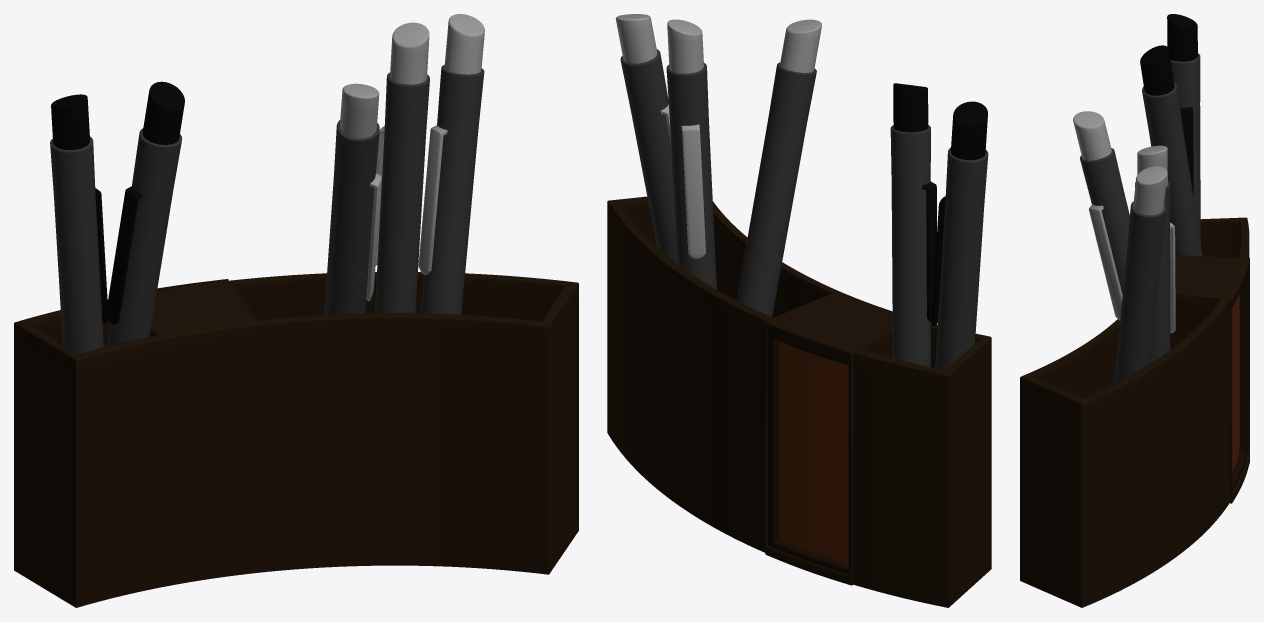
File: Canetas.FBX
3 views of the same model, side by side, from view 1: azimuth 30°, elevation 25°; view 2: azimuth 150°, elevation 25°; view 3: azimuth 270°, elevation 25° (orthographic). The views are drawn at different scales.
Visible parts, largest first — view 1: arch20_031, arch20_011, arch20_038, arch20_032, arch20_012, arch20_034, arch20_039, arch20_033, arch20_013, arch20_030, arch20_010; view 2: arch20_031, arch20_036, arch20_035, arch20_012, arch20_034, arch20_032, arch20_038, arch20_011, arch20_010, arch20_033, arch20_037, arch20_030 (+2 smaller); view 3: arch20_031, arch20_038, arch20_034, arch20_012, arch20_036, arch20_013, arch20_032, arch20_011, arch20_030, arch20_037, arch20_039, arch20_033 (+2 smaller).
Part boxes in pixels (bbox=[...]): arch20_031: bbox=[14, 272, 578, 607]; arch20_011: bbox=[375, 72, 429, 313]; arch20_038: bbox=[420, 65, 484, 314]; arch20_032: bbox=[50, 136, 103, 354]; arch20_012: bbox=[324, 120, 379, 314]; arch20_034: bbox=[107, 128, 182, 346]; arch20_039: bbox=[418, 14, 484, 274]; arch20_033: bbox=[107, 81, 184, 324]; arch20_013: bbox=[339, 83, 381, 300]; arch20_030: bbox=[51, 94, 108, 323]; arch20_010: bbox=[375, 22, 429, 265]; arch20_031: bbox=[607, 196, 991, 607]; arch20_036: bbox=[768, 329, 850, 575]; arch20_035: bbox=[779, 341, 848, 564]; arch20_012: bbox=[736, 62, 816, 316]; arch20_034: bbox=[890, 125, 930, 367]; arch20_032: bbox=[935, 147, 988, 369]; arch20_038: bbox=[620, 49, 677, 263]; arch20_011: bbox=[666, 63, 716, 289]; arch20_010: bbox=[667, 19, 705, 258]; arch20_033: bbox=[893, 83, 936, 321]; arch20_037: bbox=[765, 321, 853, 585]; arch20_030: bbox=[931, 101, 987, 326]; arch20_031: bbox=[1020, 217, 1249, 607]; arch20_038: bbox=[1114, 201, 1166, 383]; arch20_034: bbox=[1142, 82, 1202, 255]; arch20_012: bbox=[1080, 148, 1129, 294]; arch20_036: bbox=[1232, 272, 1247, 490]; arch20_013: bbox=[1073, 111, 1122, 320]; arch20_032: bbox=[1170, 53, 1200, 243]; arch20_011: bbox=[1135, 180, 1170, 363]; arch20_030: bbox=[1167, 14, 1197, 196]; arch20_037: bbox=[1230, 258, 1249, 503]; arch20_039: bbox=[1133, 166, 1167, 215]; arch20_033: bbox=[1140, 45, 1174, 95].
Size of the model in its own units: 4.86 by 5 by 2.53.
